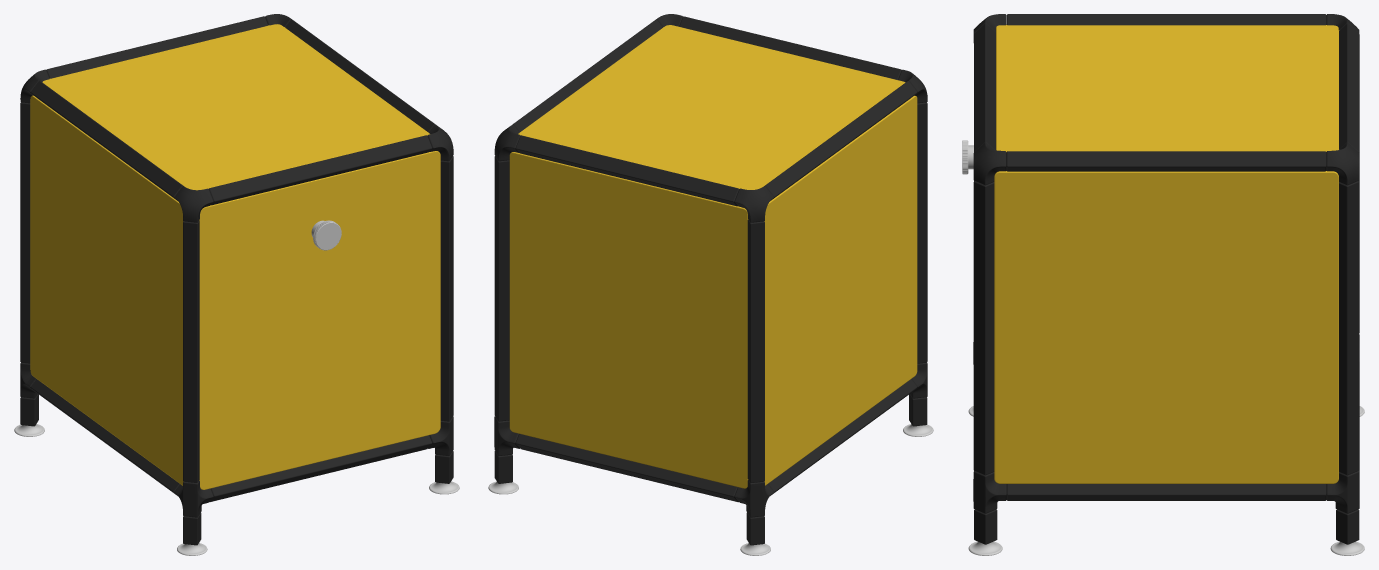
The picture shows the model from 3 angles, left to right: view 1: azimuth 30°, elevation 25°; view 2: azimuth 150°, elevation 25°; view 3: azimuth 270°, elevation 25°; orthographic projection. The views are drawn at different scales.
Parts seen in each view (by area): view 1: 329x374x374; view 2: 329x374x374; view 3: 329x374x374.
Part boxes in pixels (<box>): 329x374x374: <box>14,14,459,555</box>; 329x374x374: <box>488,14,933,555</box>; 329x374x374: <box>962,14,1364,555</box>.
Bounding box in the file's own units: 0.4189 × 0.5133 × 0.4707.
